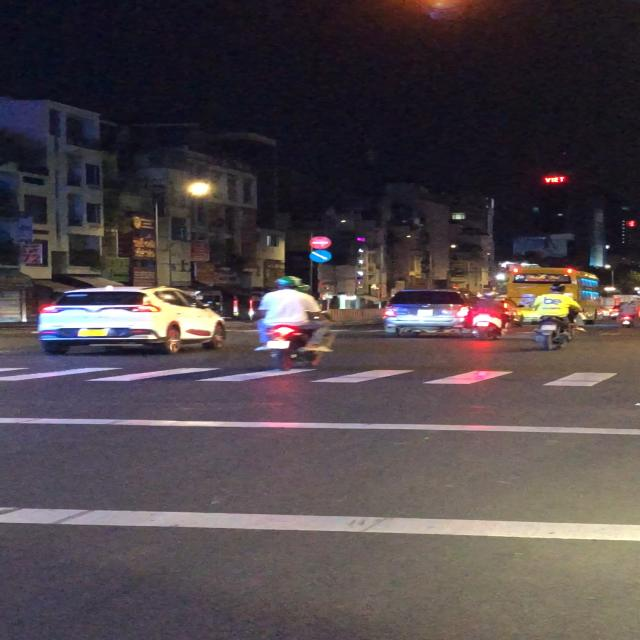Bien bao cam di nguoc chieu: (308, 235, 333, 249)
Bien bao huong phai di vong chuong ngai vat: (308, 250, 334, 264)
